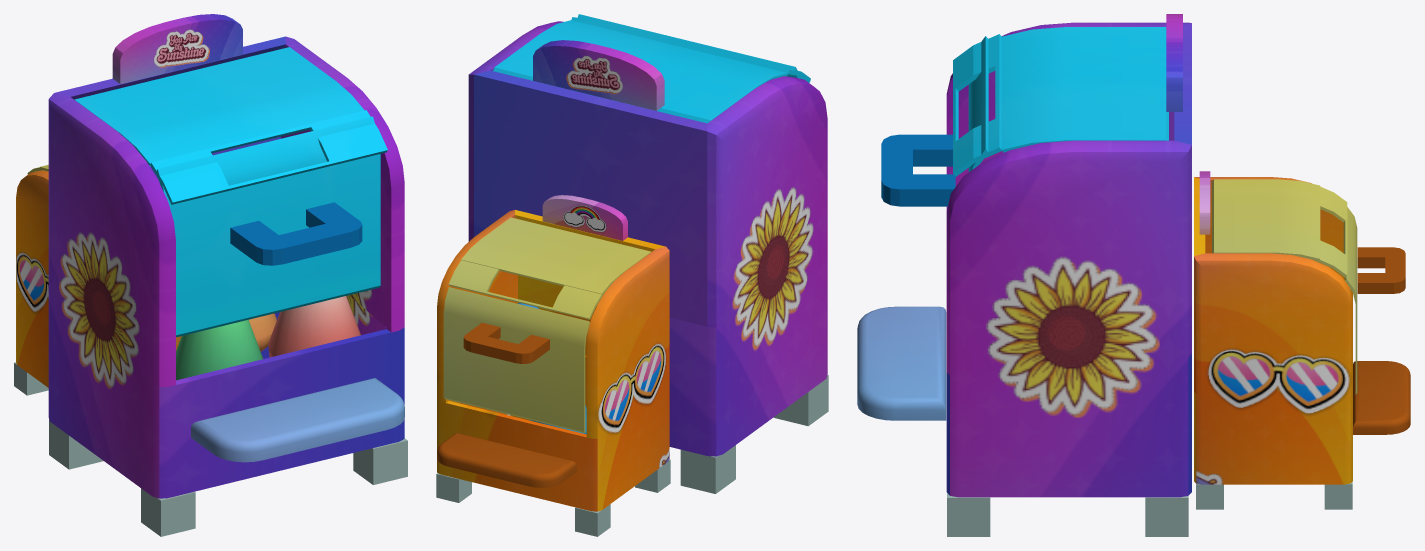
The picture shows the model from 3 angles, left to right: view 1: azimuth 30°, elevation 25°; view 2: azimuth 150°, elevation 25°; view 3: azimuth 270°, elevation 25°; orthographic projection. The views are drawn at different scales.
Visible parts, largest first — view 1: cube_4, cube_12, cube_14, cube_2, cube_15, cube, cube_11, cube_5, cube_3, cube_9, cube_29, cube_38 (+9 smaller); view 2: cube_10, cube_12, cube_20, cube_15, cube_29, cube_2, cube_22, cube_32, cube_5, cube_16, cube_35, cube_18 (+13 smaller); view 3: cube_11, cube_17, cube_30, cube_2, cube_33, cube, cube_22, cube_9, cube_18, cube_3, cube_12, cube_27 (+11 smaller).
Boxes of the visible parts, x1=… form: cube_4: x1=156, y1=116, x2=380, y2=337; cube_12: x1=48, y1=93, x2=175, y2=387; cube_14: x1=159, y1=327, x2=404, y2=498; cube_2: x1=74, y1=47, x2=364, y2=166; cube_15: x1=48, y1=290, x2=159, y2=498; cube: x1=191, y1=378, x2=404, y2=462; cube_11: x1=281, y1=36, x2=404, y2=332; cube_5: x1=112, y1=14, x2=242, y2=84; cube_3: x1=150, y1=110, x2=387, y2=204; cube_9: x1=230, y1=202, x2=362, y2=265; cube_29: x1=16, y1=170, x2=48, y2=310; cube_38: x1=268, y1=296, x2=360, y2=357; cube_10: x1=474, y1=70, x2=707, y2=326; cube_12: x1=707, y1=76, x2=827, y2=327; cube_20: x1=443, y1=287, x2=590, y2=432; cube_15: x1=716, y1=263, x2=827, y2=456; cube_29: x1=586, y1=246, x2=669, y2=438; cube_2: x1=493, y1=20, x2=787, y2=123; cube_22: x1=461, y1=217, x2=651, y2=294; cube_32: x1=437, y1=400, x2=597, y2=511; cube_5: x1=533, y1=40, x2=664, y2=110; cube_16: x1=669, y1=317, x2=716, y2=456; cube_35: x1=597, y1=376, x2=669, y2=511; cube_18: x1=437, y1=433, x2=576, y2=487; cube_11: x1=946, y1=140, x2=1191, y2=376; cube_17: x1=950, y1=358, x2=1188, y2=497; cube_30: x1=1194, y1=253, x2=1352, y2=406; cube_2: x1=1001, y1=27, x2=1168, y2=152; cube_33: x1=1196, y1=394, x2=1350, y2=484; cube: x1=857, y1=306, x2=946, y2=420; cube_22: x1=1212, y1=179, x2=1320, y2=260; cube_9: x1=881, y1=134, x2=955, y2=206; cube_18: x1=1353, y1=361, x2=1410, y2=434; cube_3: x1=953, y1=34, x2=1001, y2=176; cube_12: x1=946, y1=22, x2=1191, y2=210; cube_27: x1=1357, y1=247, x2=1405, y2=293.
Size of the model in its own units: 6.39 by 9.89 by 11.3.
